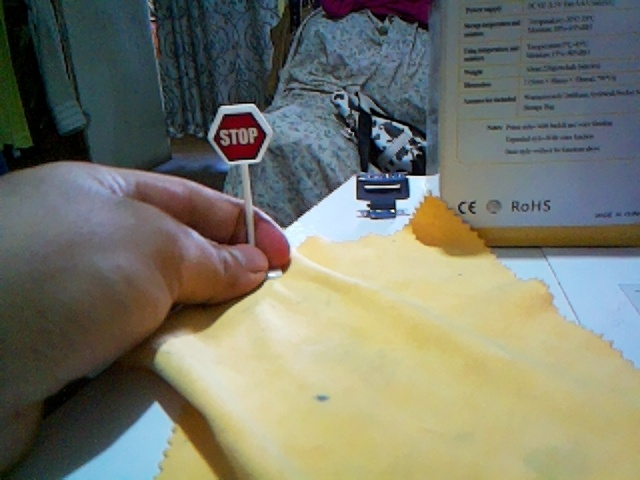stop_sign: (206, 103, 272, 165)
